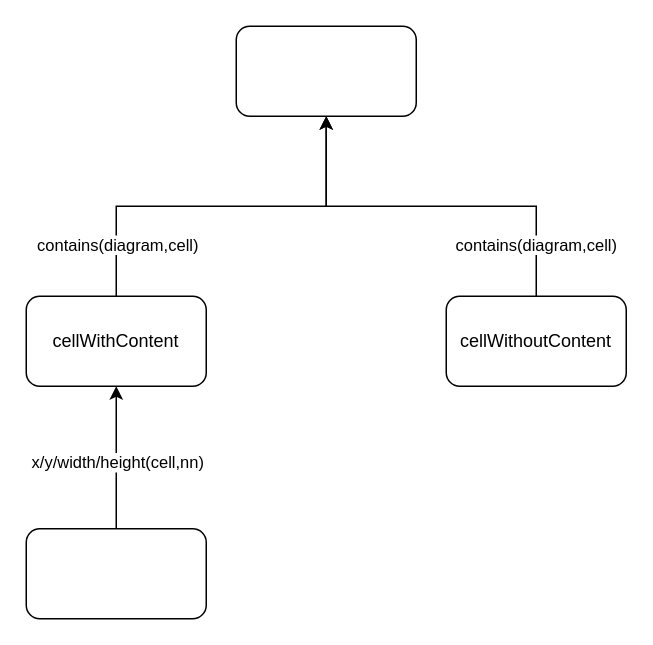
The diagram is 653 pixels wide and 645 high, and some of its shapes have lost their labels. Each missing label, with the centre of its shape:
diagram: point 325,70
geometry: point 115,573
